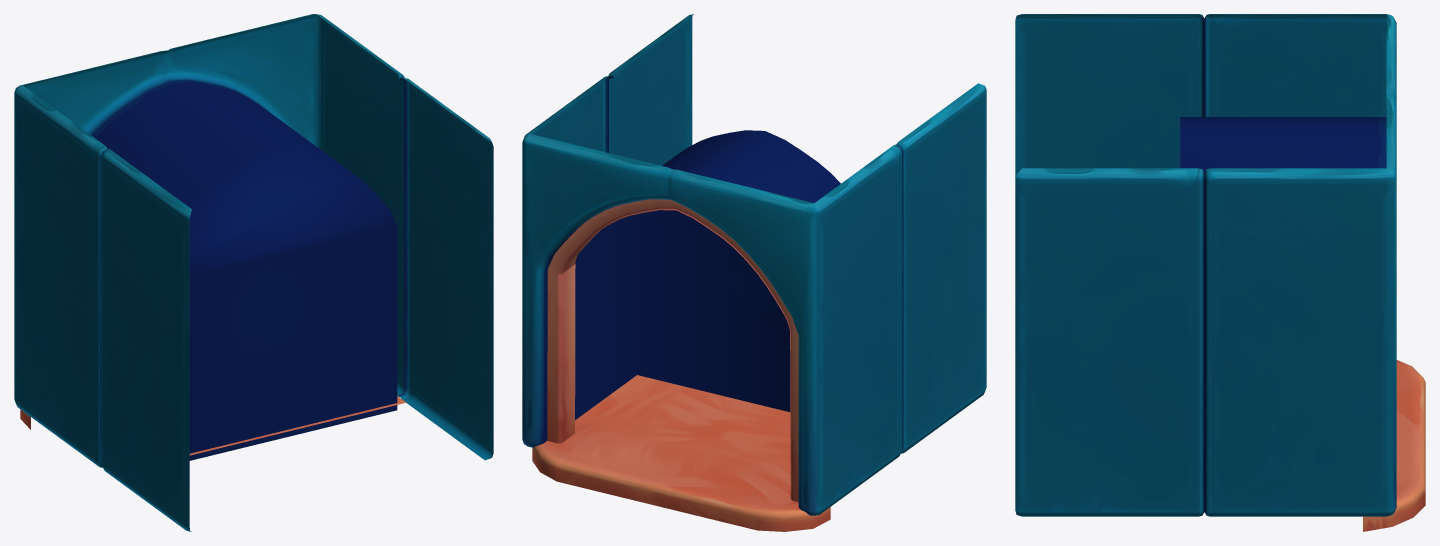
The model's file is WallColumnDoorExit.fbx.
The picture shows the model from 3 angles, left to right: view 1: azimuth 30°, elevation 25°; view 2: azimuth 150°, elevation 25°; view 3: azimuth 270°, elevation 25°; orthographic projection. The views are drawn at different scales.
Visible parts, largest first — view 1: WallColumnDoorExit; view 2: WallColumnDoorExit; view 3: WallColumnDoorExit.
Part boxes in pixels (bbox=[...]): WallColumnDoorExit: bbox=[14, 14, 493, 531]; WallColumnDoorExit: bbox=[522, 14, 986, 531]; WallColumnDoorExit: bbox=[1015, 14, 1425, 531].
Size of the model in its own units: 100 by 104 by 107.
